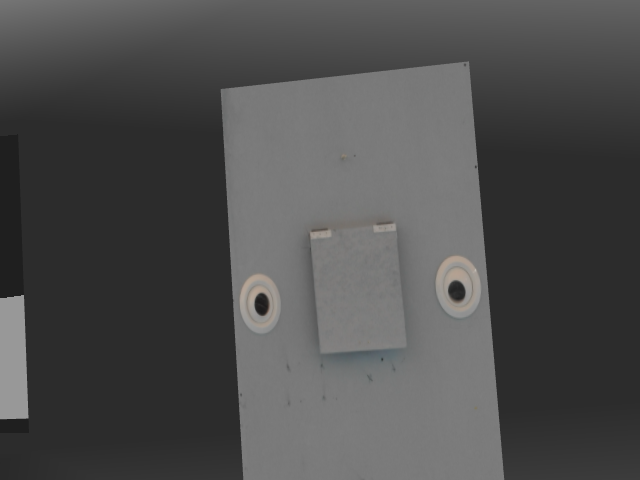facade: (231, 219, 483, 359)
